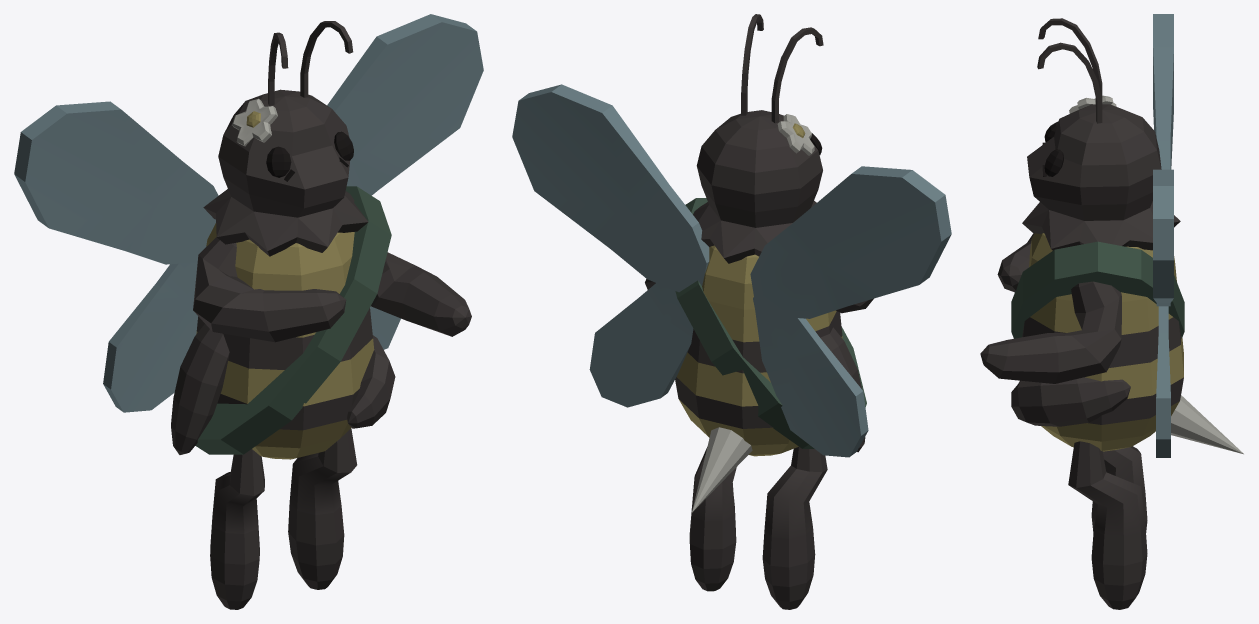
File: PresidentBee.fbx
The picture shows the model from 3 angles, left to right: view 1: azimuth 30°, elevation 25°; view 2: azimuth 150°, elevation 25°; view 3: azimuth 270°, elevation 25°; orthographic projection. The views are drawn at different scales.
Parts seen in each view (by area): view 1: President; view 2: President; view 3: President.
Boxes of the visible parts, box(x1,y1,x2,y2) form: President: box(14, 14, 483, 609); President: box(512, 14, 951, 609); President: box(980, 14, 1243, 609).
Bounding box in the file's own units: 5.75 × 7.12 × 3.05.
